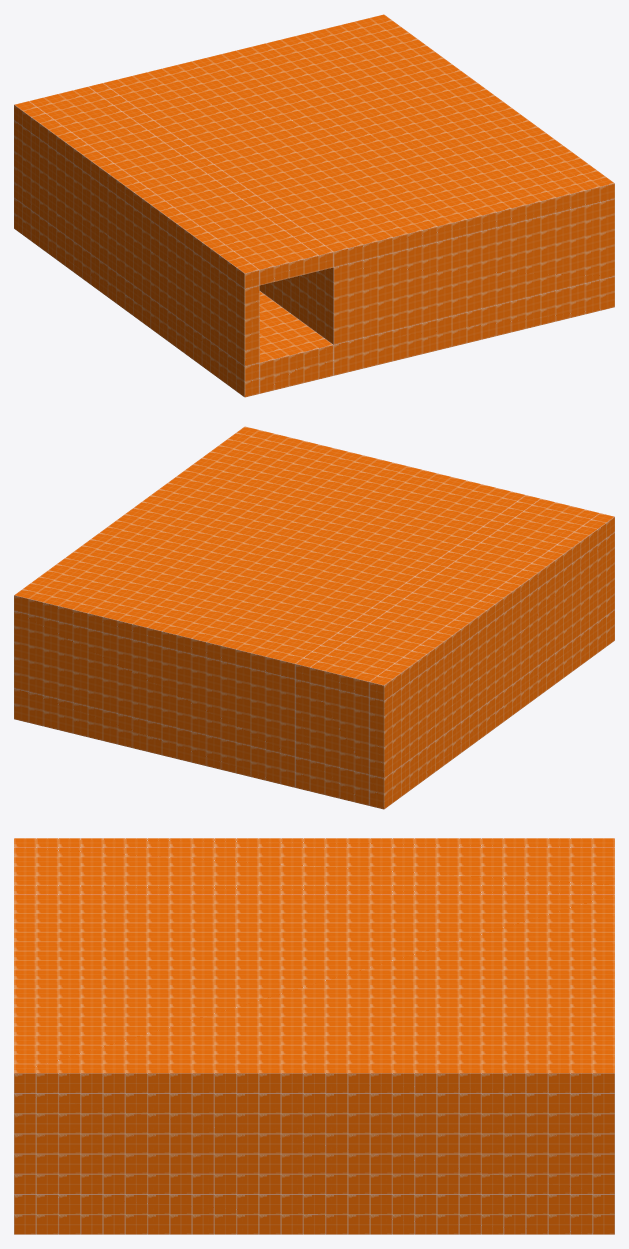
File: Room.obj
The picture shows the model from 3 angles, top to bottom: view 1: azimuth 30°, elevation 25°; view 2: azimuth 150°, elevation 25°; view 3: azimuth 270°, elevation 25°; orthographic projection. The views are drawn at different scales.
Visible parts, largest first — view 1: Room; view 2: Room; view 3: Room.
Boxes of the visible parts, bbox=[...] form: Room: bbox=[14, 14, 614, 397]; Room: bbox=[14, 426, 614, 809]; Room: bbox=[14, 838, 614, 1234].
Bounding box in the file's own units: 25 × 8 × 27.
Materials: 1 (1 with a texture image).
